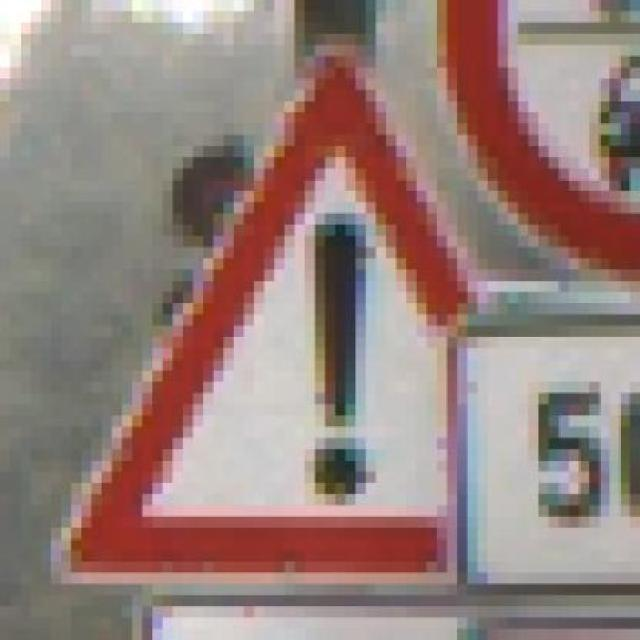Attention Please-: (30, 56, 610, 618)
